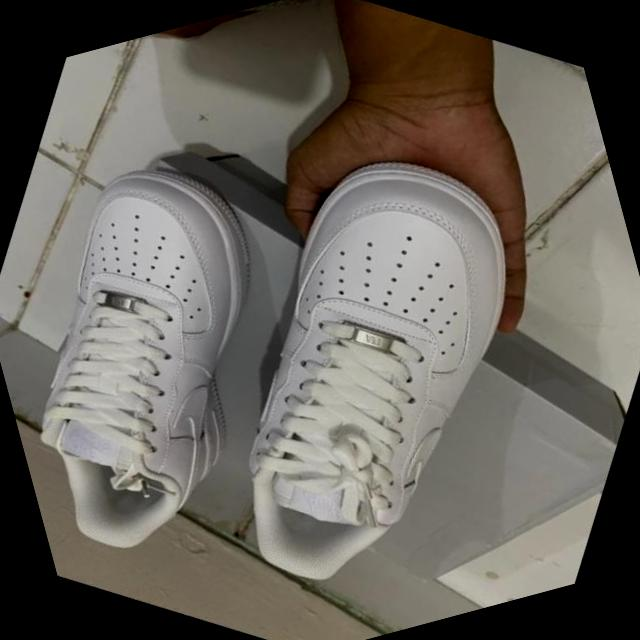nike_original_airforce: (107, 88, 626, 640), (0, 105, 379, 603)
